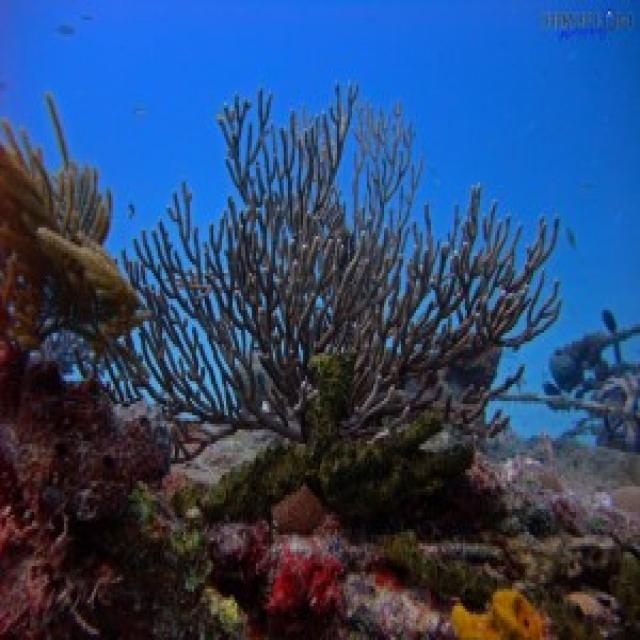Healthy: (106, 86, 560, 445), (1, 103, 146, 354)
